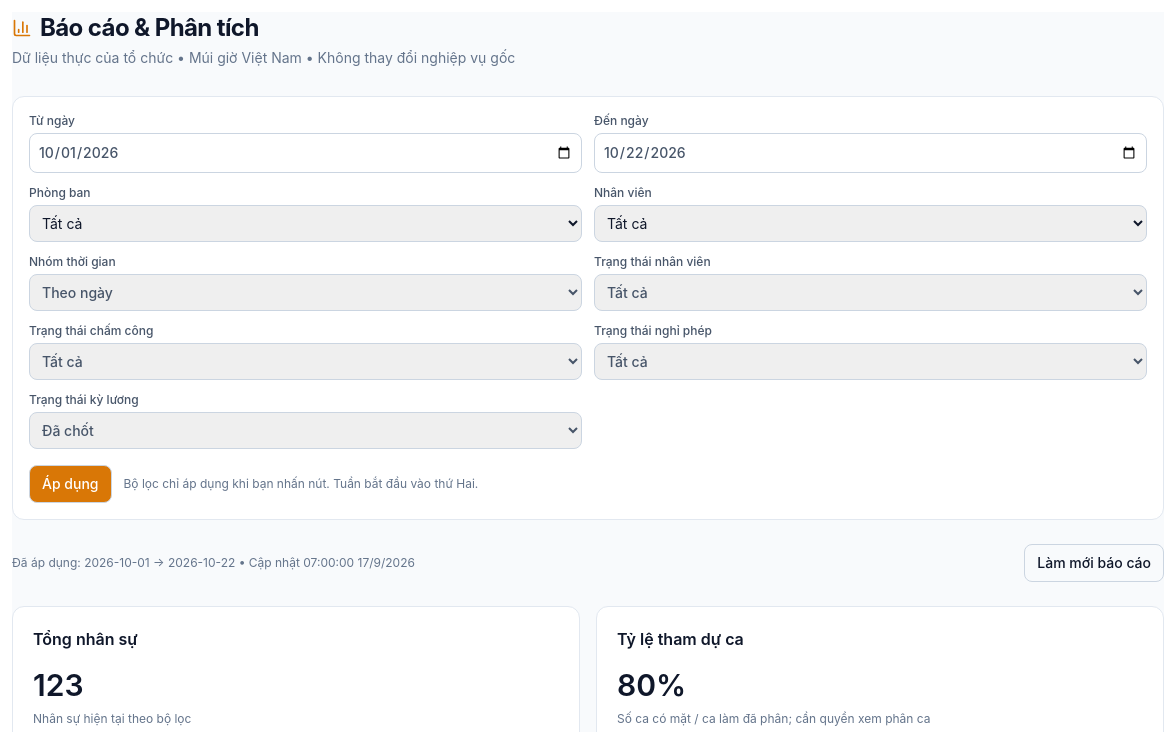
Test case: HR reports dashboard › prevents invalid ranges without API requests
Check: the text "80%" is shown, box 617,667 -> 686,703
Type "2028-01-01" into the date field labelled "Từ ngày" at (306, 153), box 29,133 -> 582,173
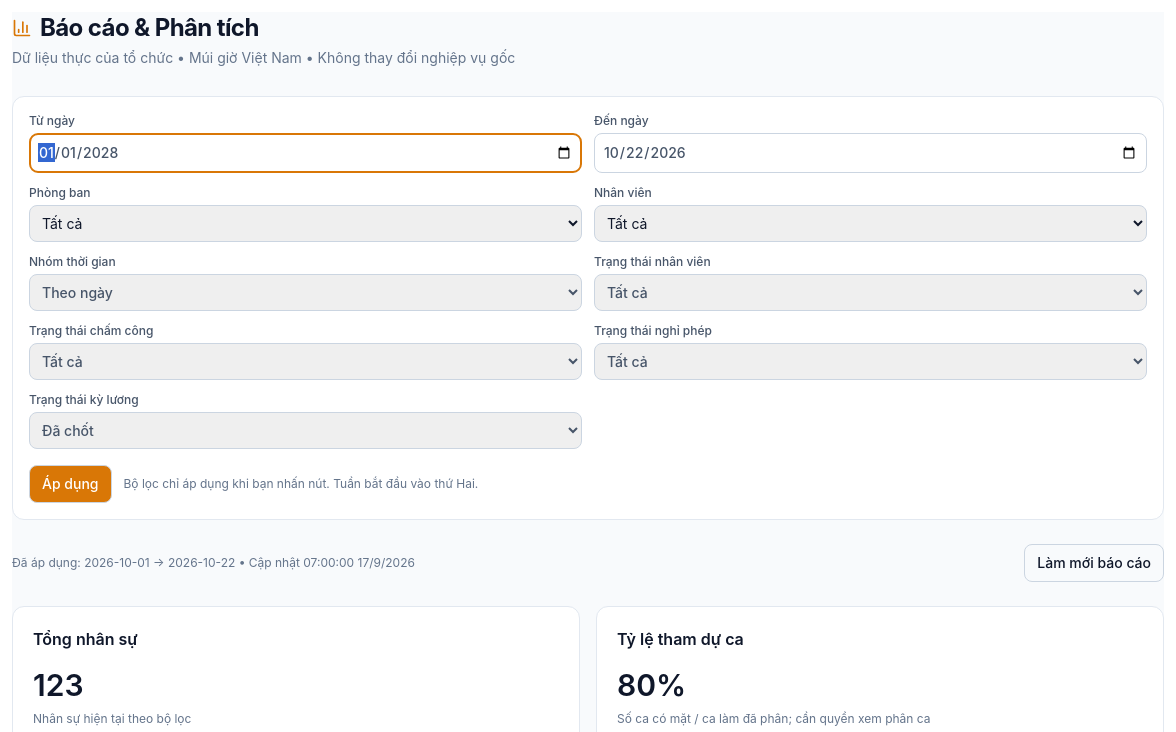
Click the button "Áp dụng" at (70, 484), box 29,465 -> 112,503
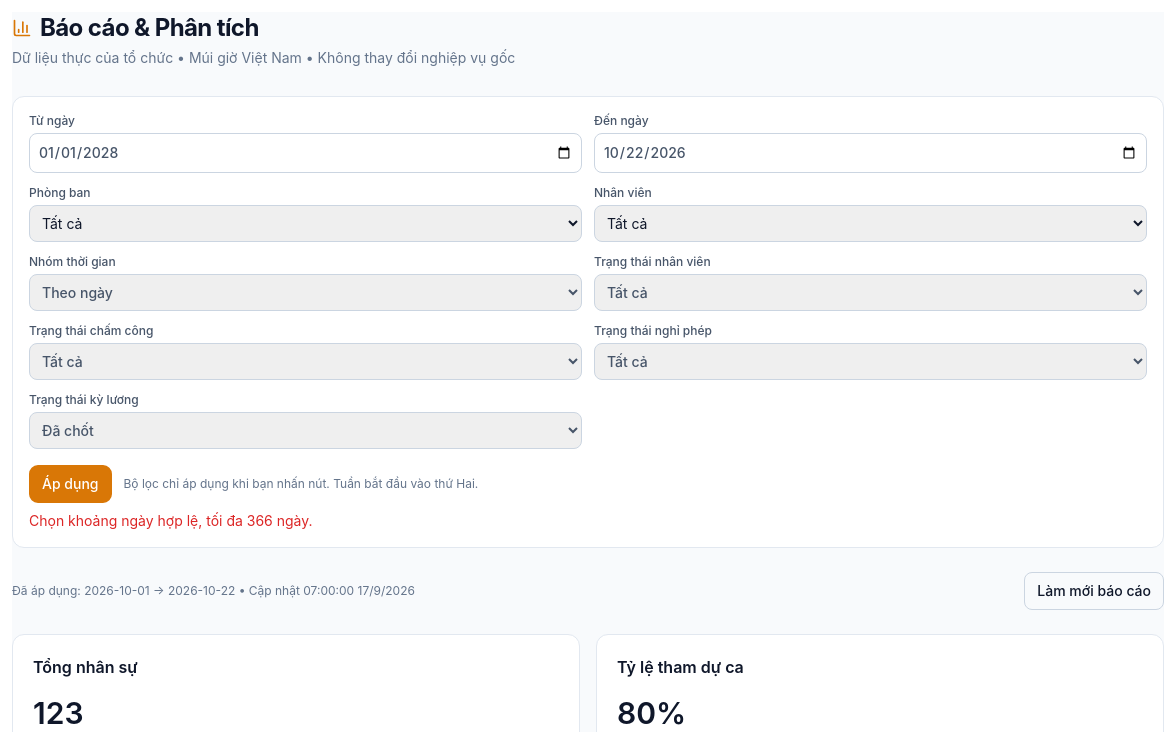
Check: the message shows "tối đa 366", box 29,512 -> 312,529
